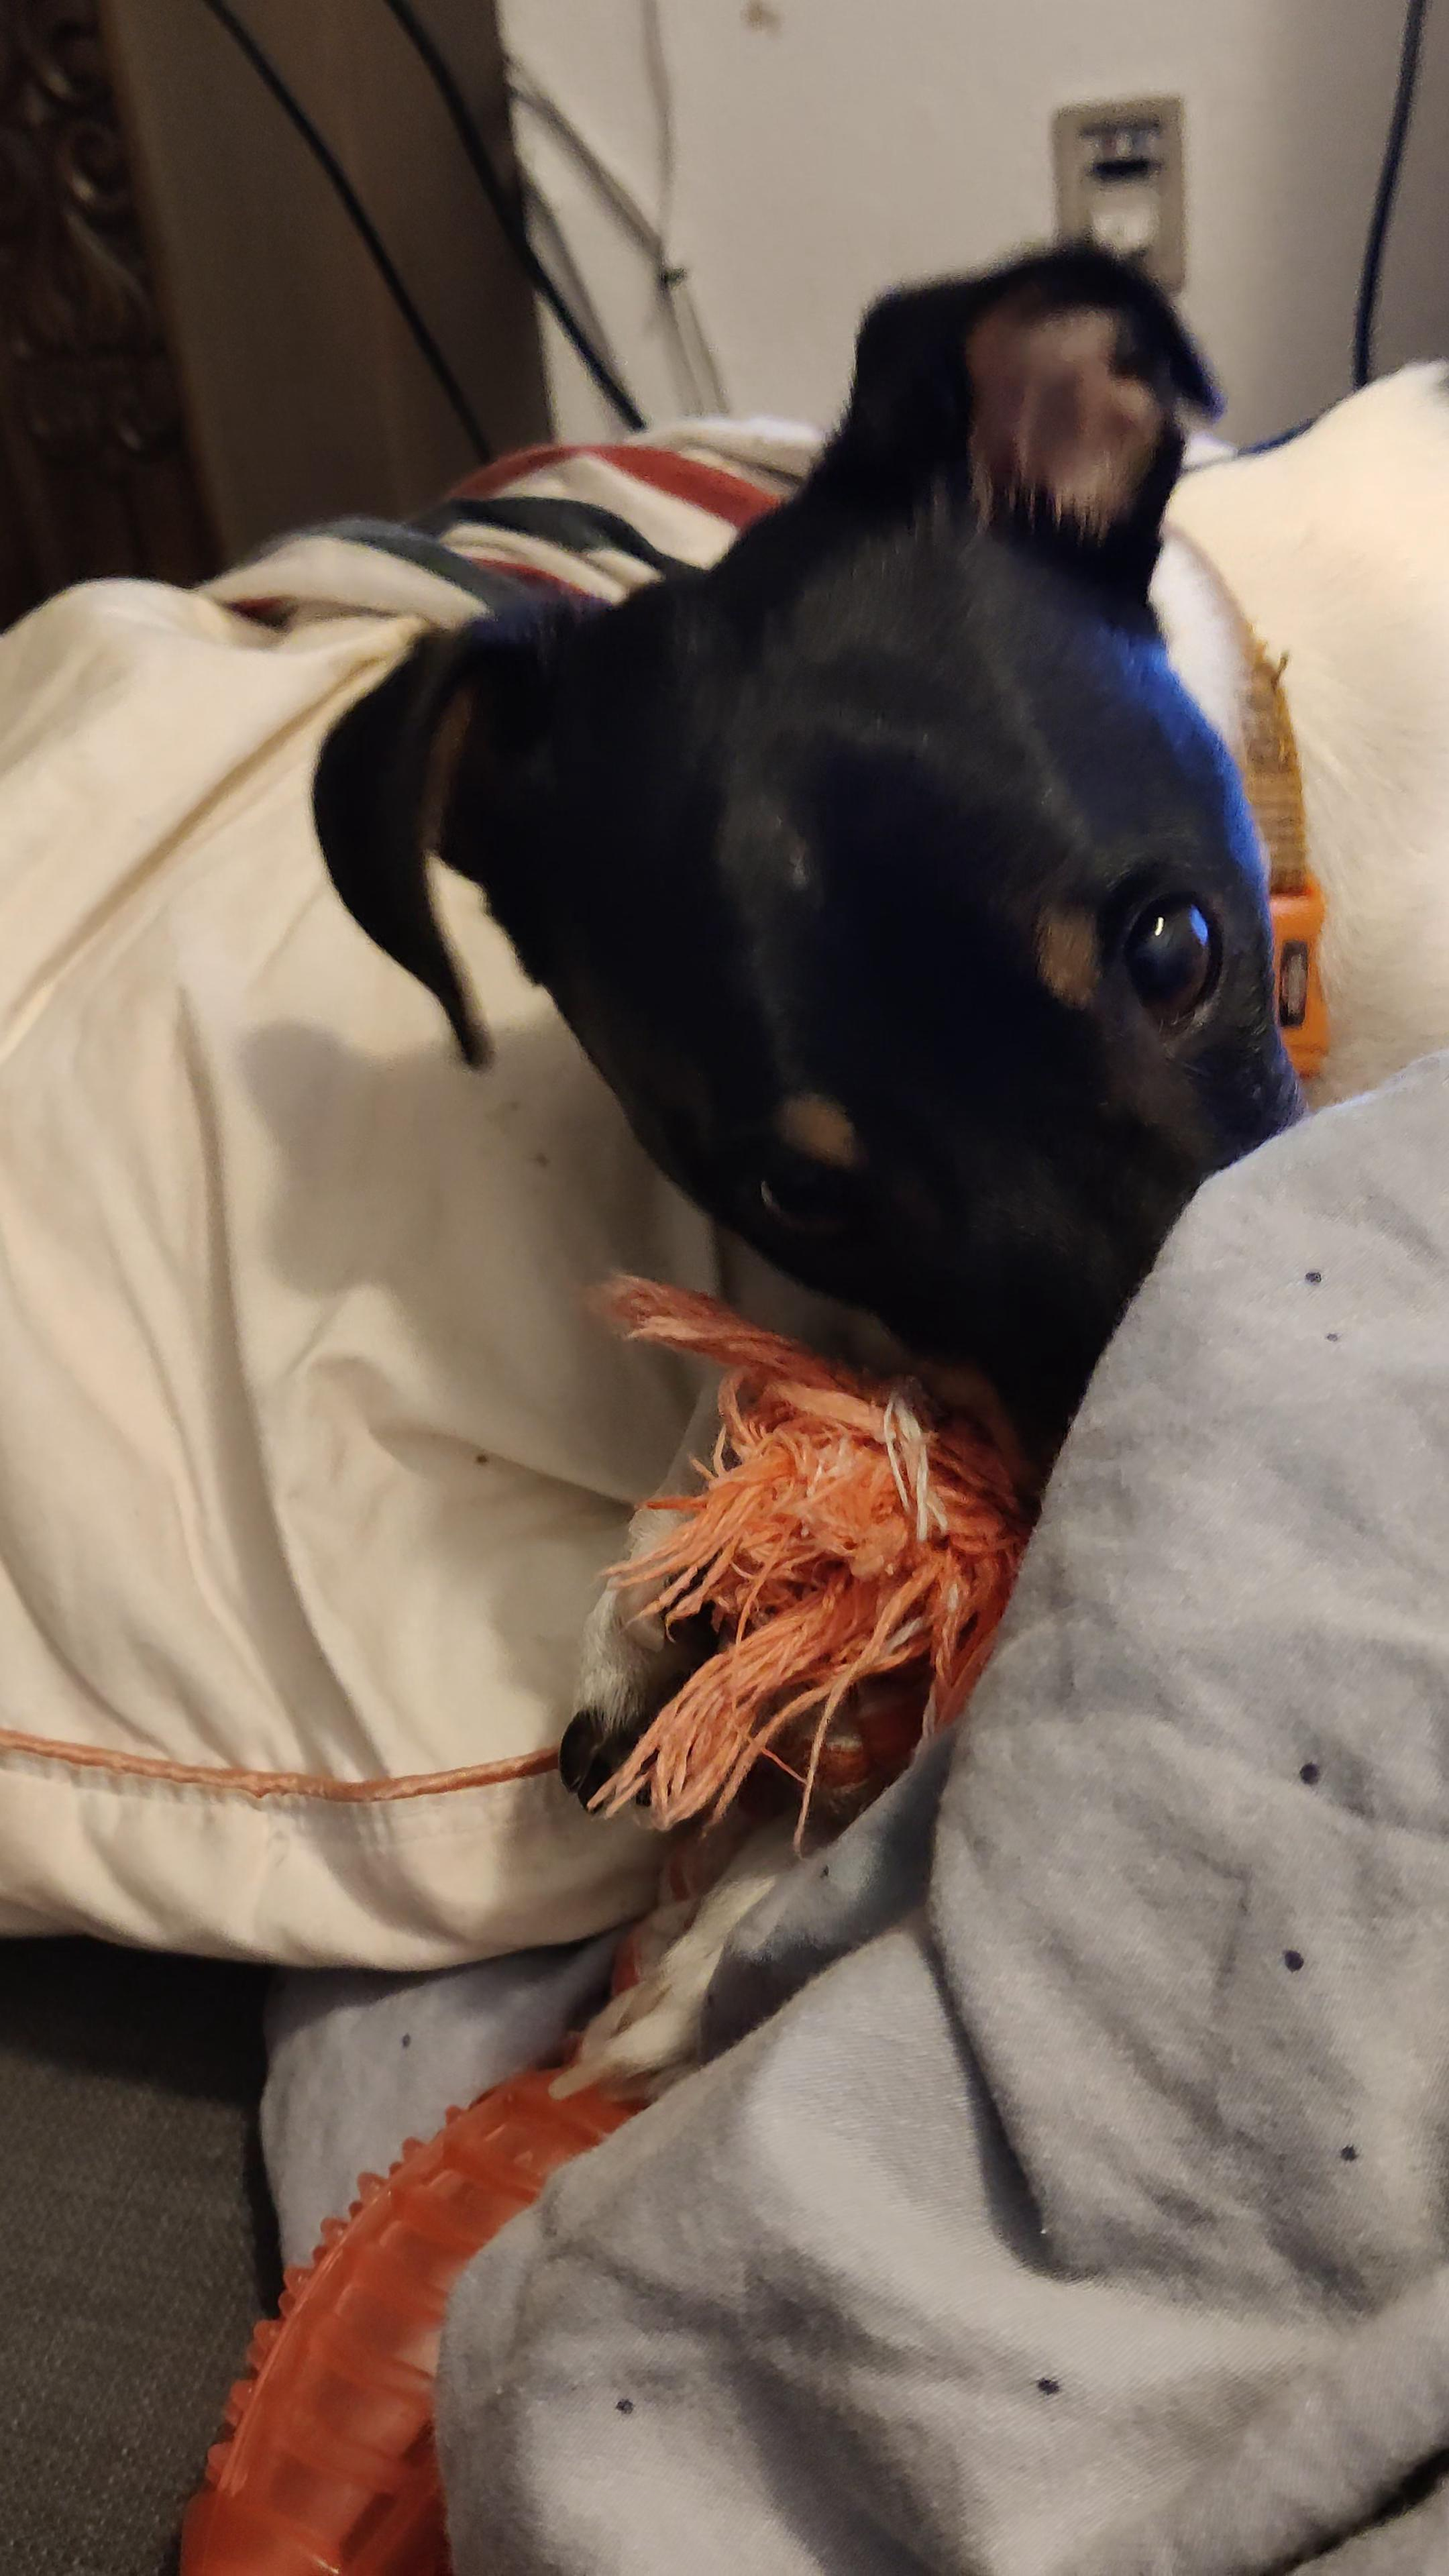Dog: (267, 212, 1449, 2162)
